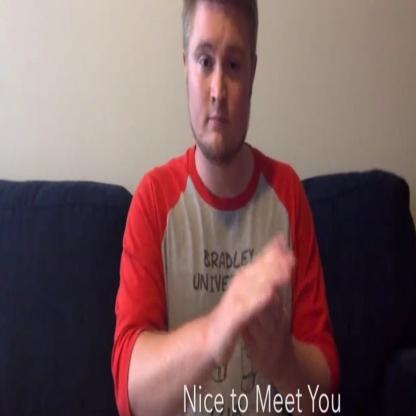NiceToMeetYou: (213, 250, 307, 382)
